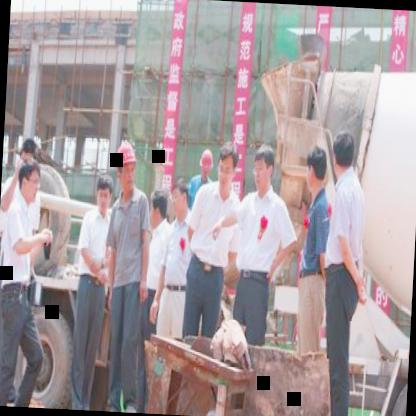head: (327, 120, 358, 184), (304, 137, 330, 202), (250, 140, 275, 196), (15, 155, 43, 205), (216, 141, 239, 188), (168, 172, 189, 223), (92, 172, 116, 216), (148, 186, 168, 228)
helmet: (112, 138, 138, 193), (196, 143, 212, 181)
